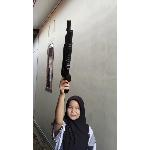Senapan: (56, 19, 80, 96)
